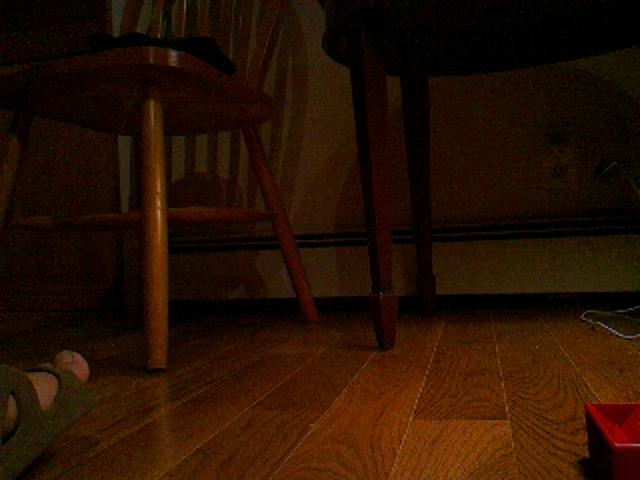red: (583, 399, 640, 480)
